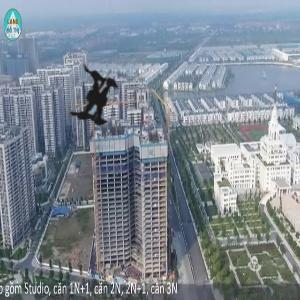drone: (16, 9, 188, 181)
